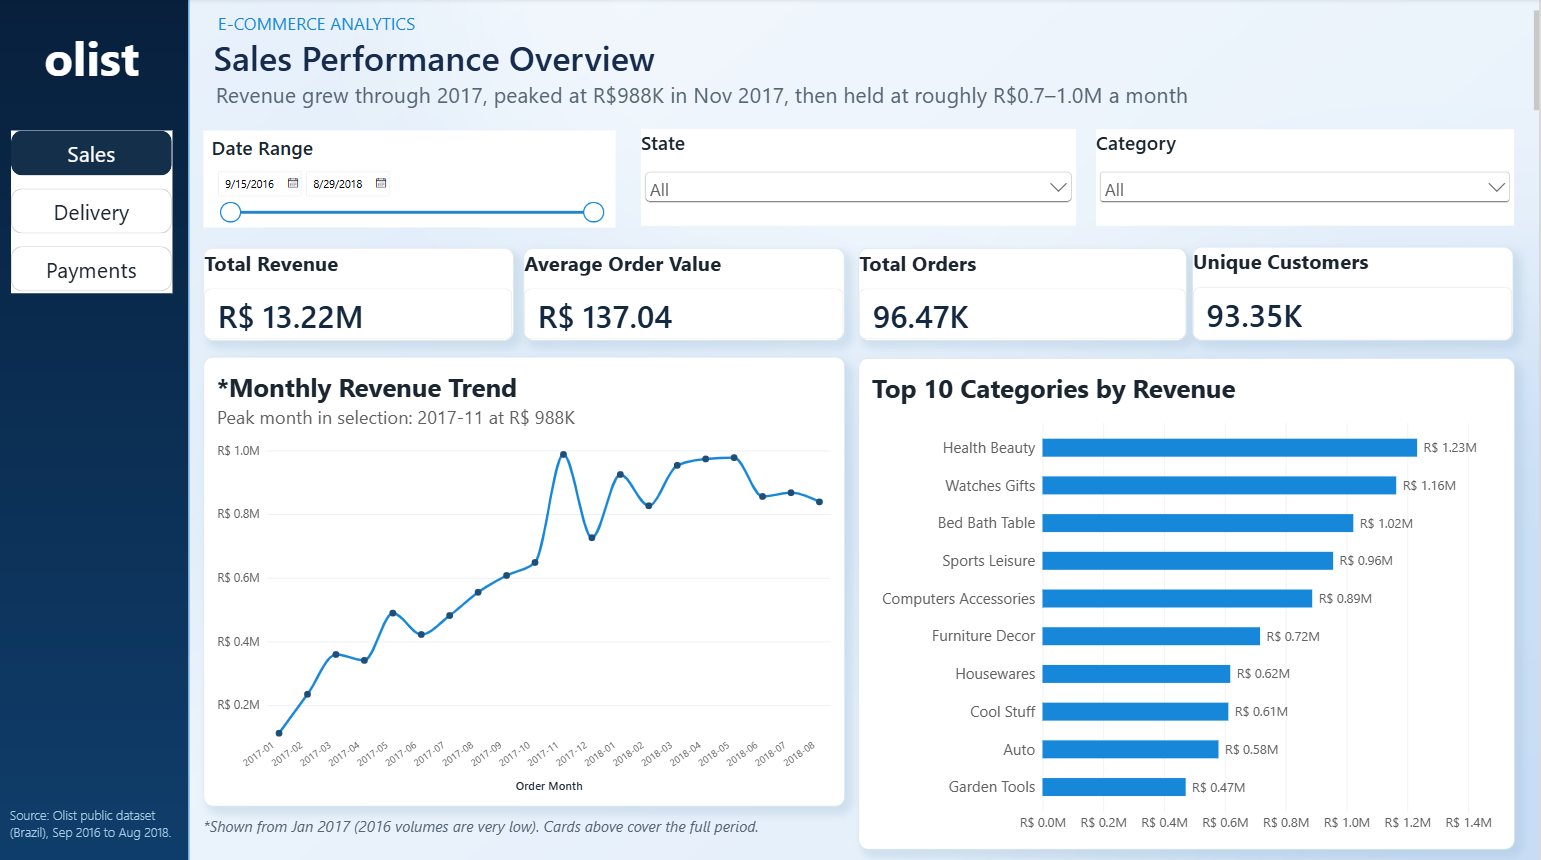

This screenshot's page, from the dashboard's own definition file:
{"tool":"powerbi","page":{"name":"Sales ","canvas":[1920,1080],"ordinal":0},"visuals":[{"type":"lineChart","title":"*Monthly Revenue Trend","fields":{"Category":["order_level_export.Order Month"],"Y":["Sum(order_level_export.revenue)"]},"box":[257.9,445.5,797.3,559.4],"z":0},{"type":"barChart","title":"Top 10 Categories by Revenue","fields":{"Category":["order_level_export.Category Label"],"Y":["Sum(order_level_export.revenue)"]},"box":[1072,447.2,815.7,611.4],"z":1000},{"type":"cardVisual","title":"Total Revenue","fields":{"Data":["Sum(order_level_export.revenue)"]},"box":[258.1,310.5,385.5,115.1],"z":2000},{"type":"cardVisual","title":"Total Orders","fields":{"Data":["Count(order_level_export.order_id)"]},"box":[1072.7,310.5,408.1,115.1],"z":3000},{"type":"cardVisual","title":"Unique Customers","fields":{"Data":["Count(order_level_export.customer_unique_id)"]},"box":[1487.8,308.7,399.4,116.9],"z":4000},{"type":"cardVisual","title":"Average Order Value","fields":{"Data":["order_level_export.Avg Order Value"]},"box":[655.8,310.5,399.4,115.1],"z":5000},{"type":"slicer","title":"Date Range","fields":{"Values":["order_level_export.order_purchase_timestamp"]},"box":[257.9,164.1,511,120.3],"z":6000},{"type":"slicer","title":"State","fields":{"Values":["order_level_export.customer_state"]},"box":[802.3,164,540.7,120.3],"z":7000},{"type":"slicer","title":"Category","fields":{"Values":["order_level_export.category"]},"box":[1367.4,164,519.8,120.3],"z":8000},{"type":"textbox","box":[258.1,15.7,1662,132],"z":9000},{"type":"textbox","box":[19.2,34.9,200.6,85.5],"z":10000},{"type":"pageNavigator","box":[18.4,164.1,201,202.7],"z":11000},{"type":"textbox","box":[17.4,1004.7,202.3,54.1],"z":12000},{"type":"textbox","box":[257.9,1016.7,797.3,41.9],"z":12001}]}

Visuals, with their boxes on the page's 1920x1080 design canvas (x1, y1, x2, y2). These are canvas units, not pixel positions in the 1541x860 screenshot, which may show the page scaled, cropped or inside an application window:
"*Monthly Revenue Trend" lineChart: x1=258 y1=446 x2=1055 y2=1005
"Top 10 Categories by Revenue" barChart: x1=1072 y1=447 x2=1888 y2=1059
"Total Revenue" cardVisual: x1=258 y1=310 x2=644 y2=426
"Total Orders" cardVisual: x1=1073 y1=310 x2=1481 y2=426
"Unique Customers" cardVisual: x1=1488 y1=309 x2=1887 y2=426
"Average Order Value" cardVisual: x1=656 y1=310 x2=1055 y2=426
"Date Range" slicer: x1=258 y1=164 x2=769 y2=284
"State" slicer: x1=802 y1=164 x2=1343 y2=284
"Category" slicer: x1=1367 y1=164 x2=1887 y2=284
textbox: x1=258 y1=16 x2=1920 y2=148
textbox: x1=19 y1=35 x2=220 y2=120
pageNavigator: x1=18 y1=164 x2=219 y2=367
textbox: x1=17 y1=1005 x2=220 y2=1059
textbox: x1=258 y1=1017 x2=1055 y2=1059
